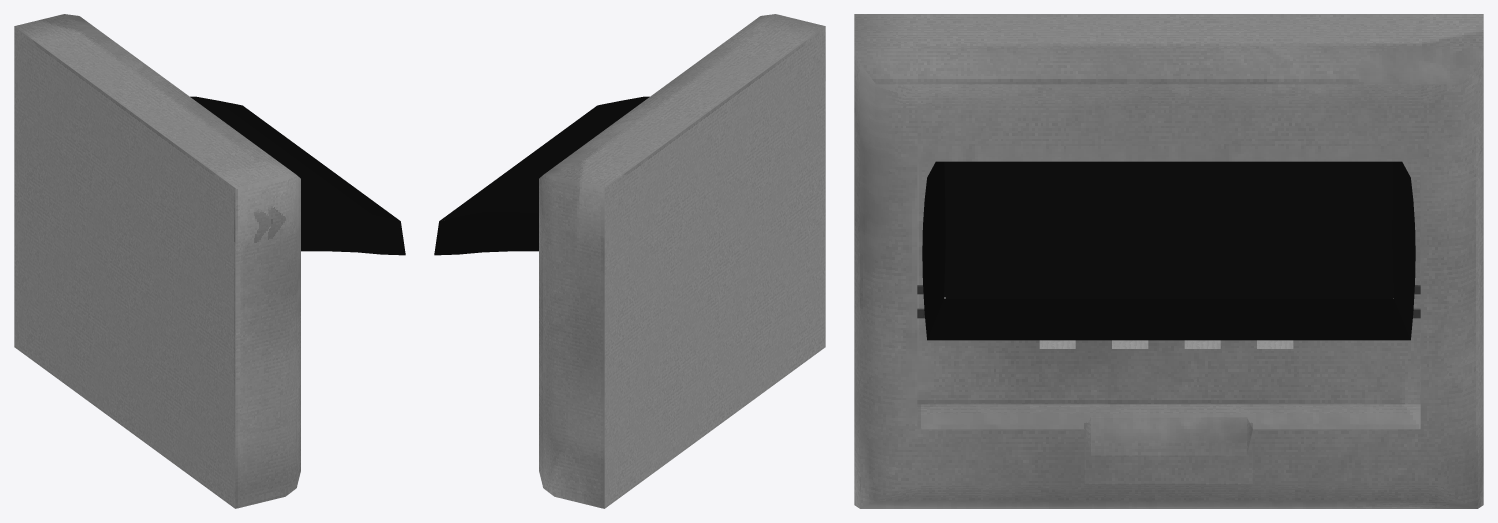
File: switch_final.glb
3 renders of one model, left to right at view 1: azimuth 30°, elevation 25°; view 2: azimuth 150°, elevation 25°; view 3: azimuth 270°, elevation 25°, orthographic. The views are drawn at different scales.
Visible parts, largest first — view 1: Cube, Cube.001; view 2: Cube, Cube.001; view 3: Cube, Cube.001, switch.
Part boxes in pixels (x1,y1,x2,y2): Cube: (14,14,300,508); Cube.001: (190,96,405,255); Cube: (539,14,825,508); Cube.001: (434,96,649,255); Cube: (854,14,1483,508); Cube.001: (922,161,1415,340); switch: (1039,340,1293,348).
Bounding box in the file's own units: 0.2569 × 0.4 × 0.5.
2 materials, 2 textured.
